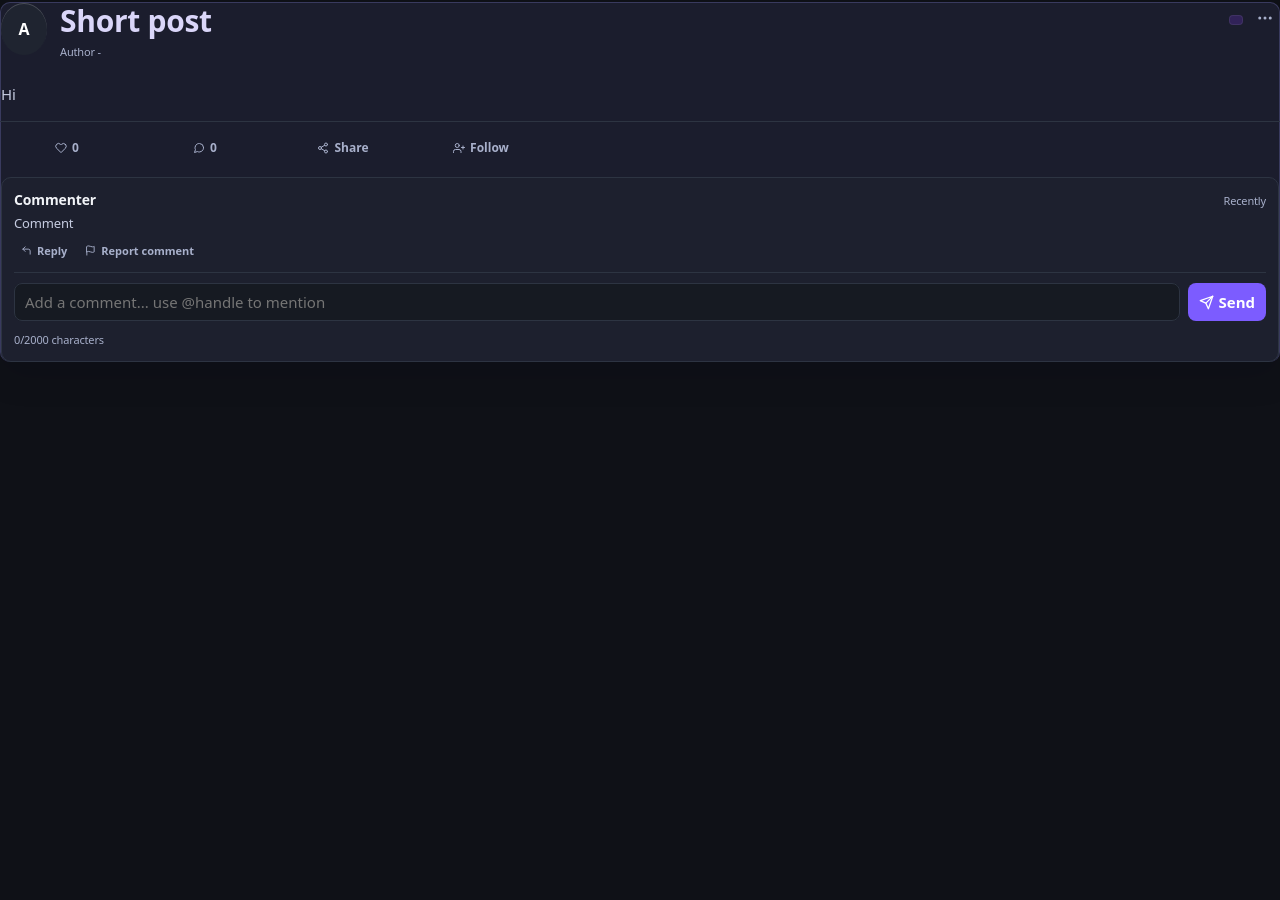
it: requires an explicit COMMENT report reason and resets it on keyboard close/reopen
Click the button "Report comment": x=140, y=250 [78,238,201,263]
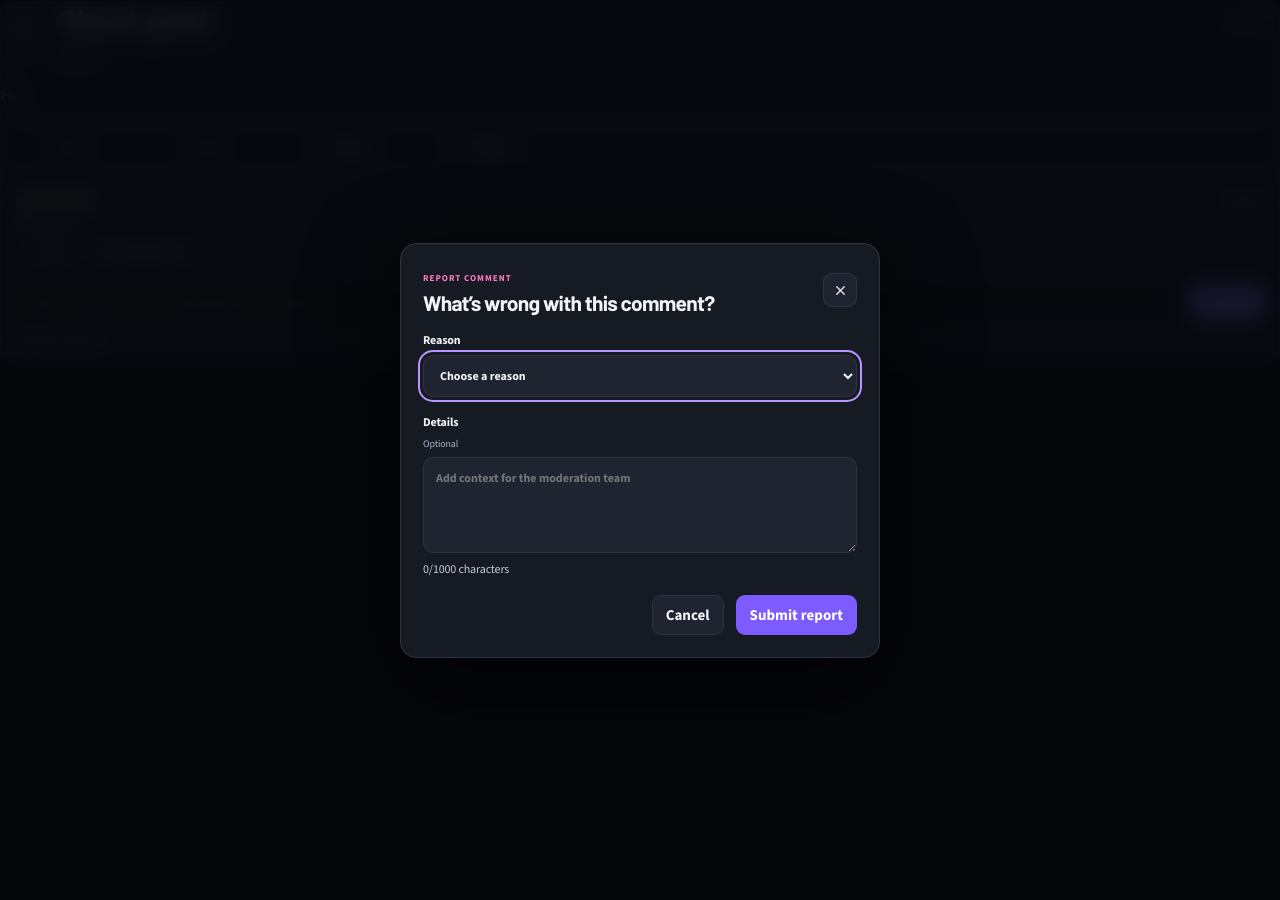
Now the dropdown labelled "Reason" shows "Choose a reason", box [423,354,857,396]
Now the button "Submit report" is disabled, box [736,594,857,634]
Press Enter
Select "Harassment" in the dropdown labelled "Reason": x=640, y=376 [423,354,857,396]
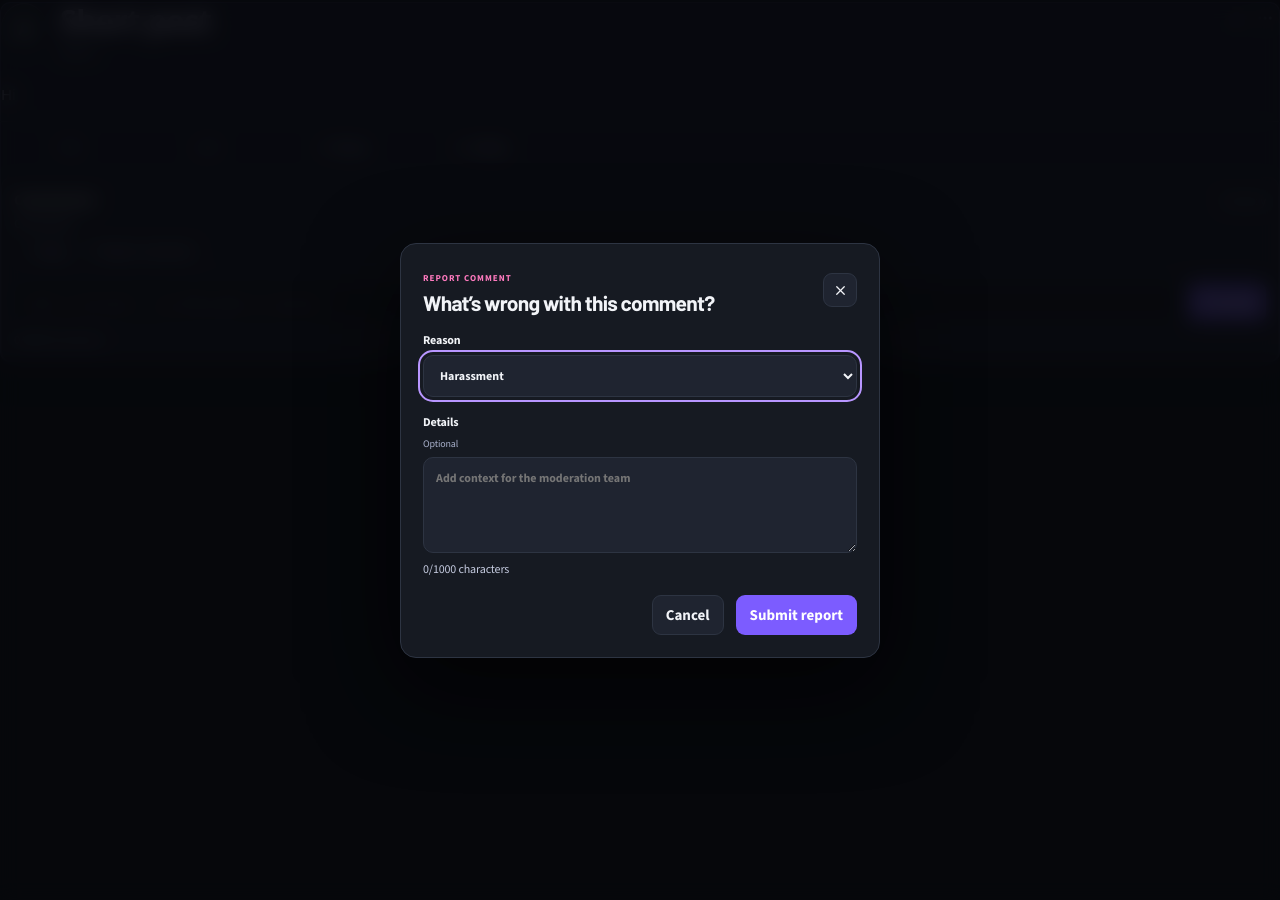
Expected: the button "Submit report" is enabled, [736,594,857,634]
Press Escape
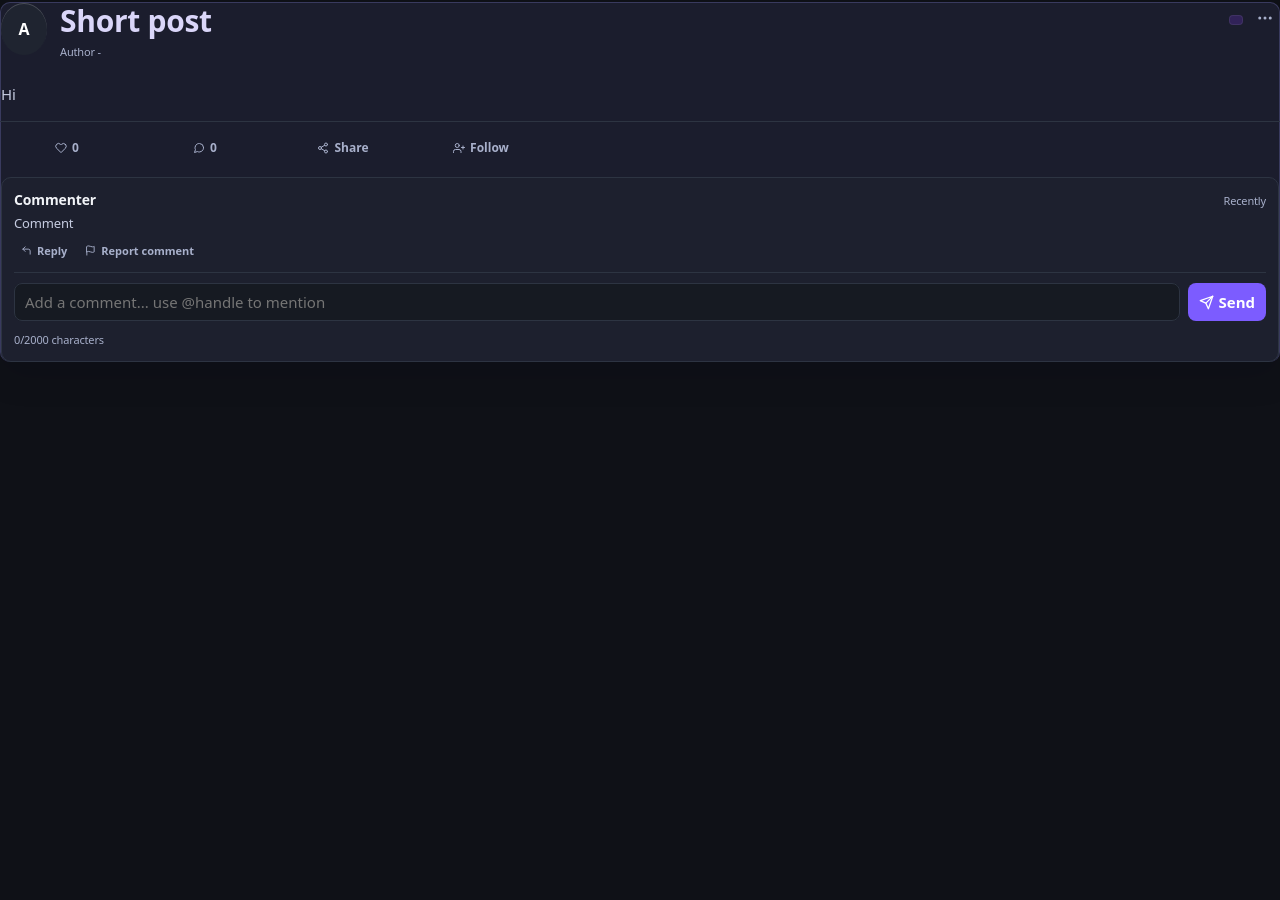
Now the dialog is gone
Click the button "Report comment": x=140, y=250 [78,238,201,263]
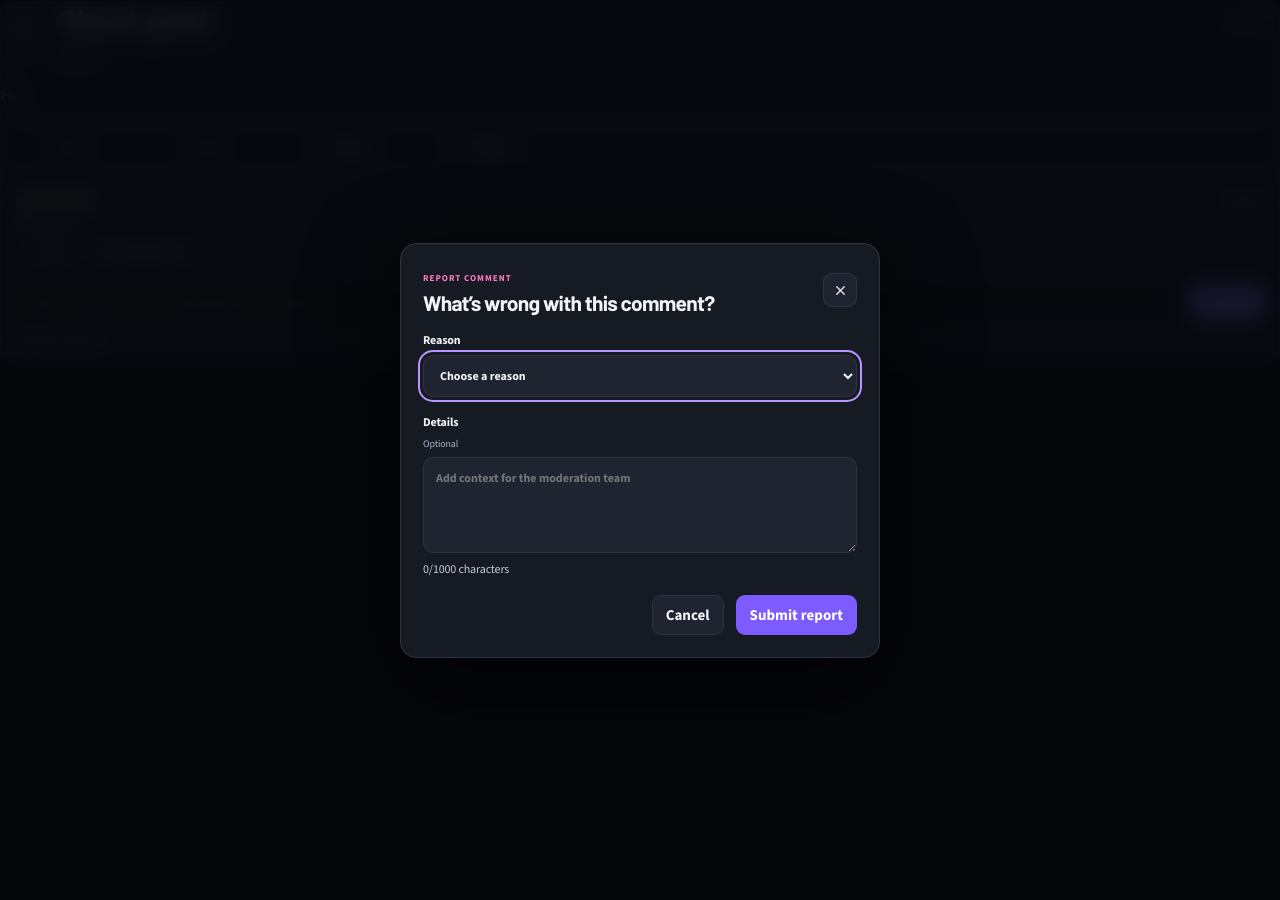
Now the dropdown labelled "Reason" shows "Choose a reason", box [423,354,857,396]
Now the button "Submit report" is disabled, box [736,594,857,634]
